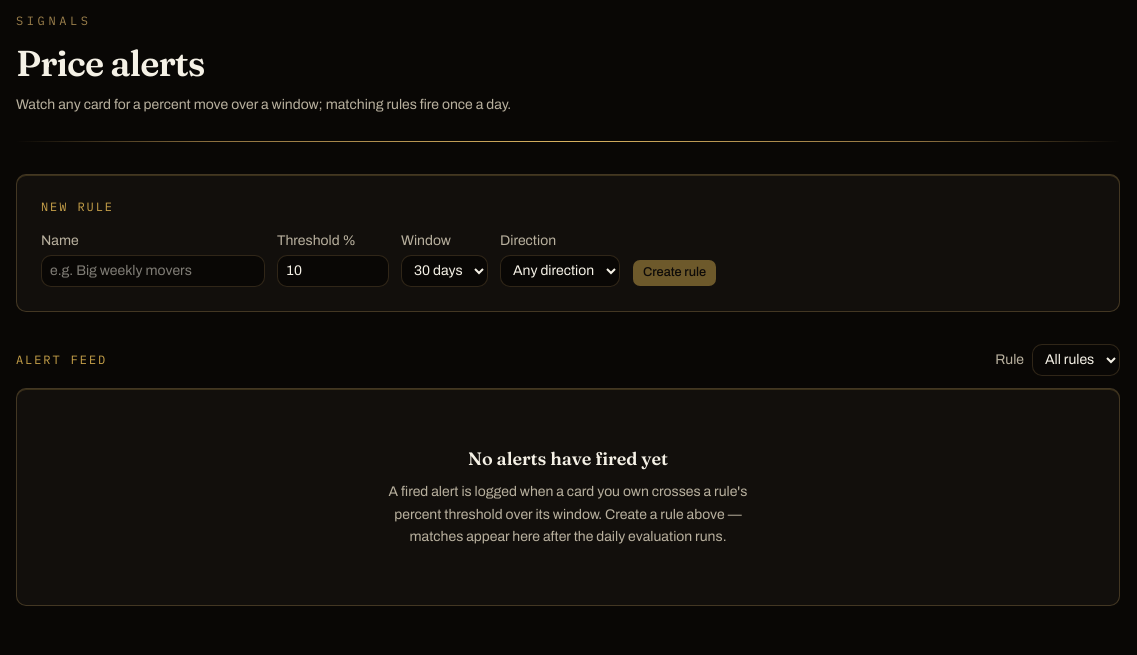
Test: AlertsPage — create rule form › surfaces a 400 field error from the server
The image size is (1137, 655).
In the field named "rule name": (153, 271) [41, 255, 265, 287], type "x"
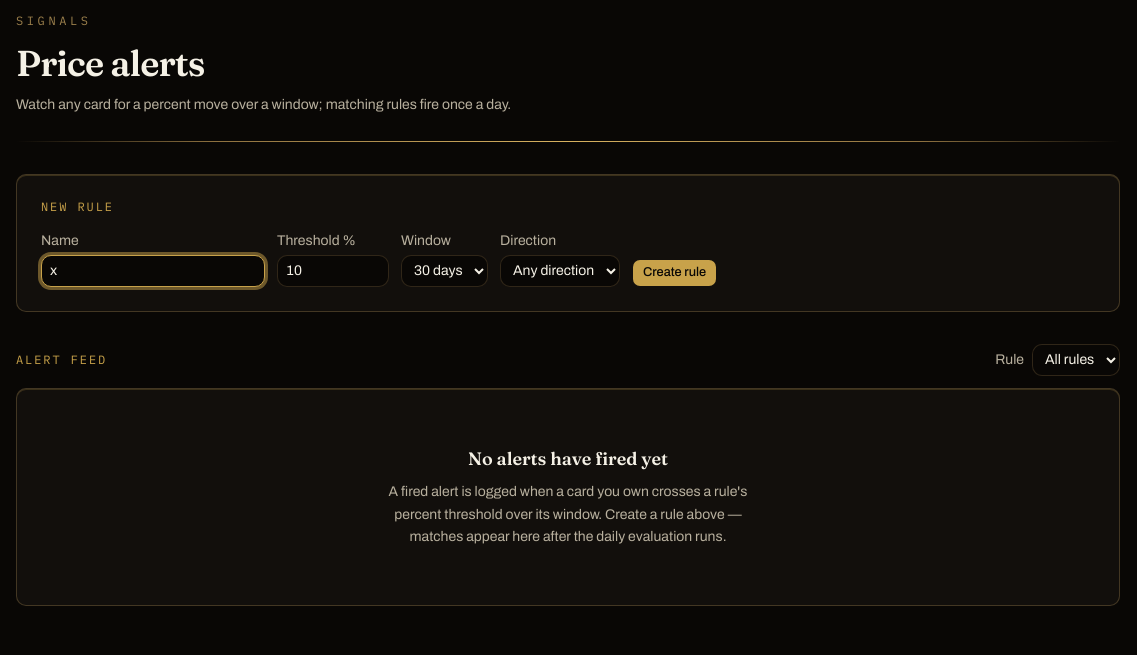
Click the button "Create rule": (675, 273) [632, 259, 717, 287]
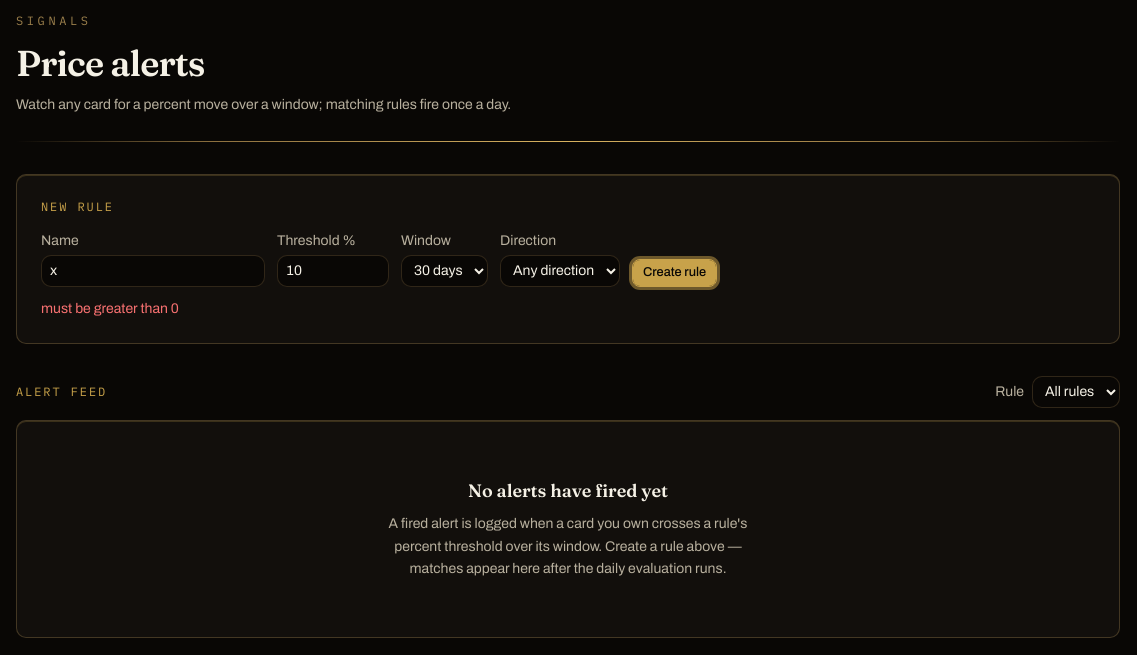
Now the message reads "must be greater than 0", box [41, 301, 179, 316]
